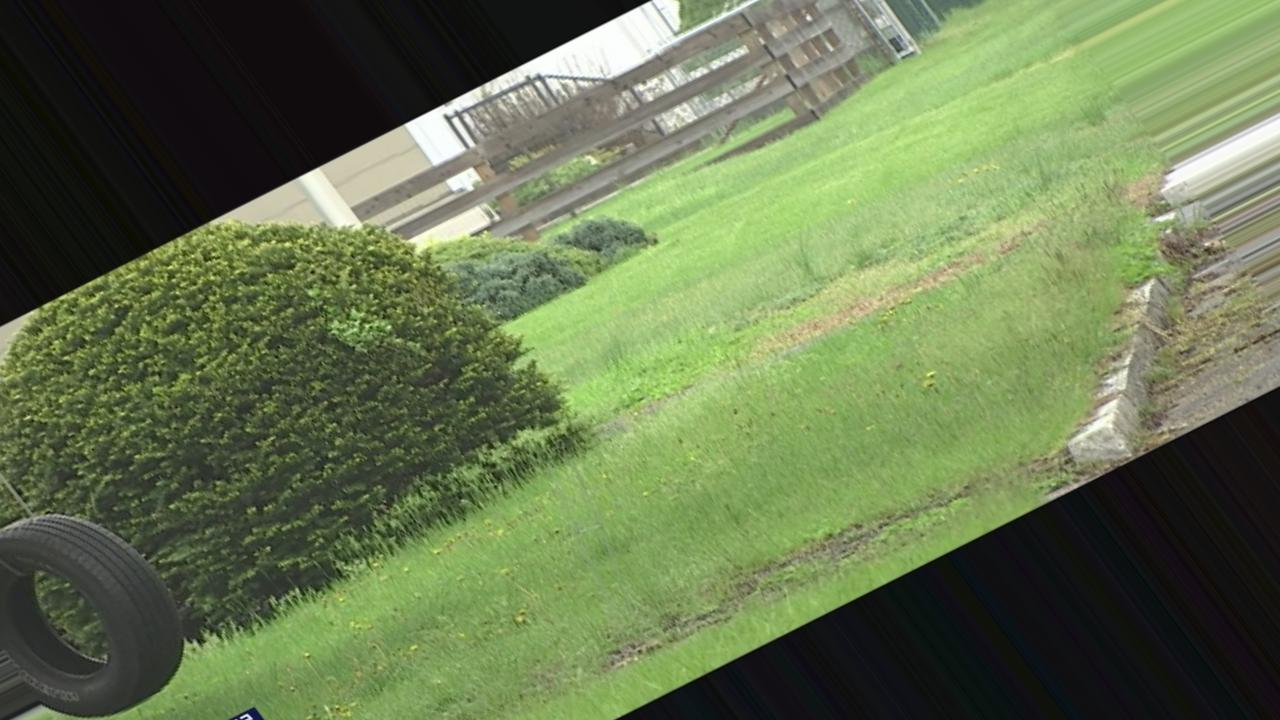patch: (768, 274, 1000, 320), (744, 547, 864, 569)
